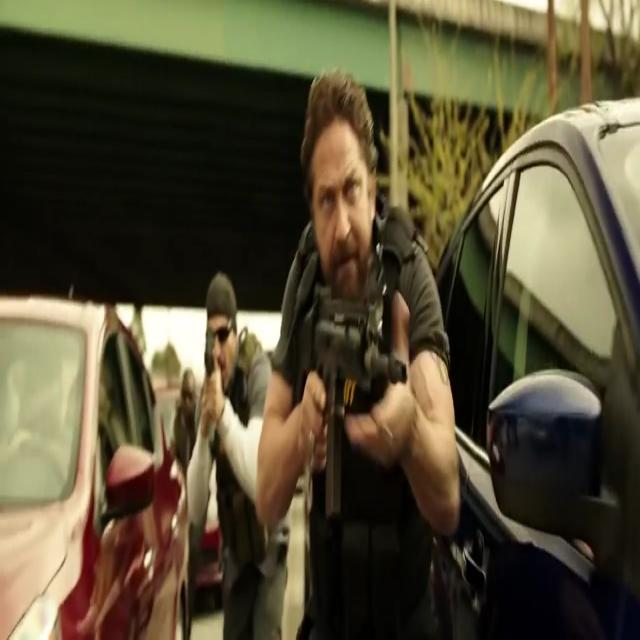Weapon: (302, 293, 416, 538), (194, 328, 243, 413)
